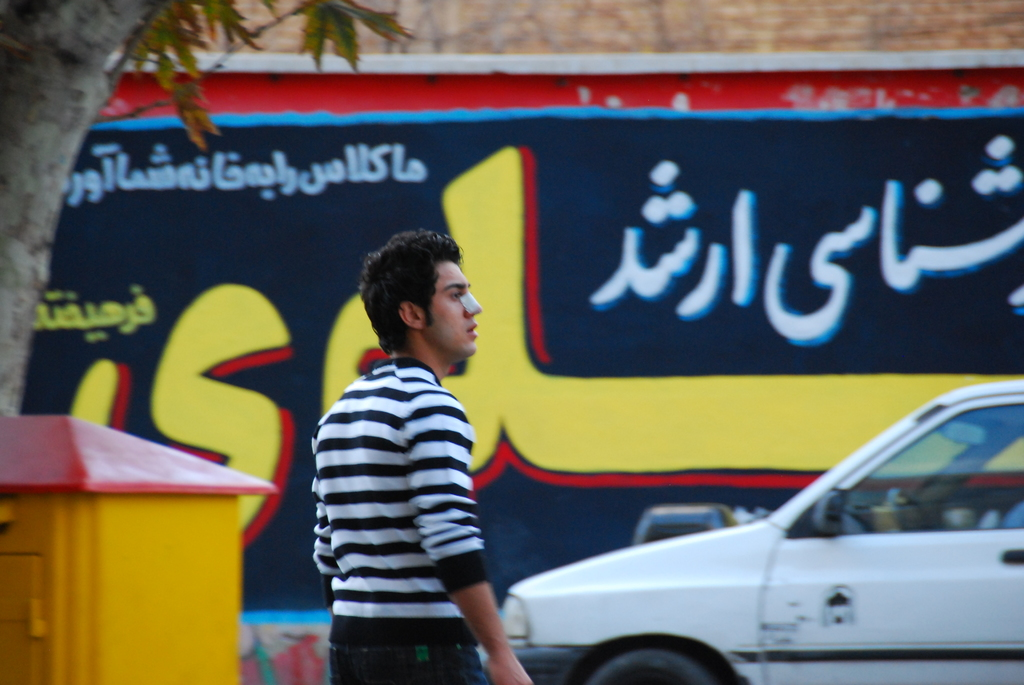cars: (500, 376, 1023, 684)
